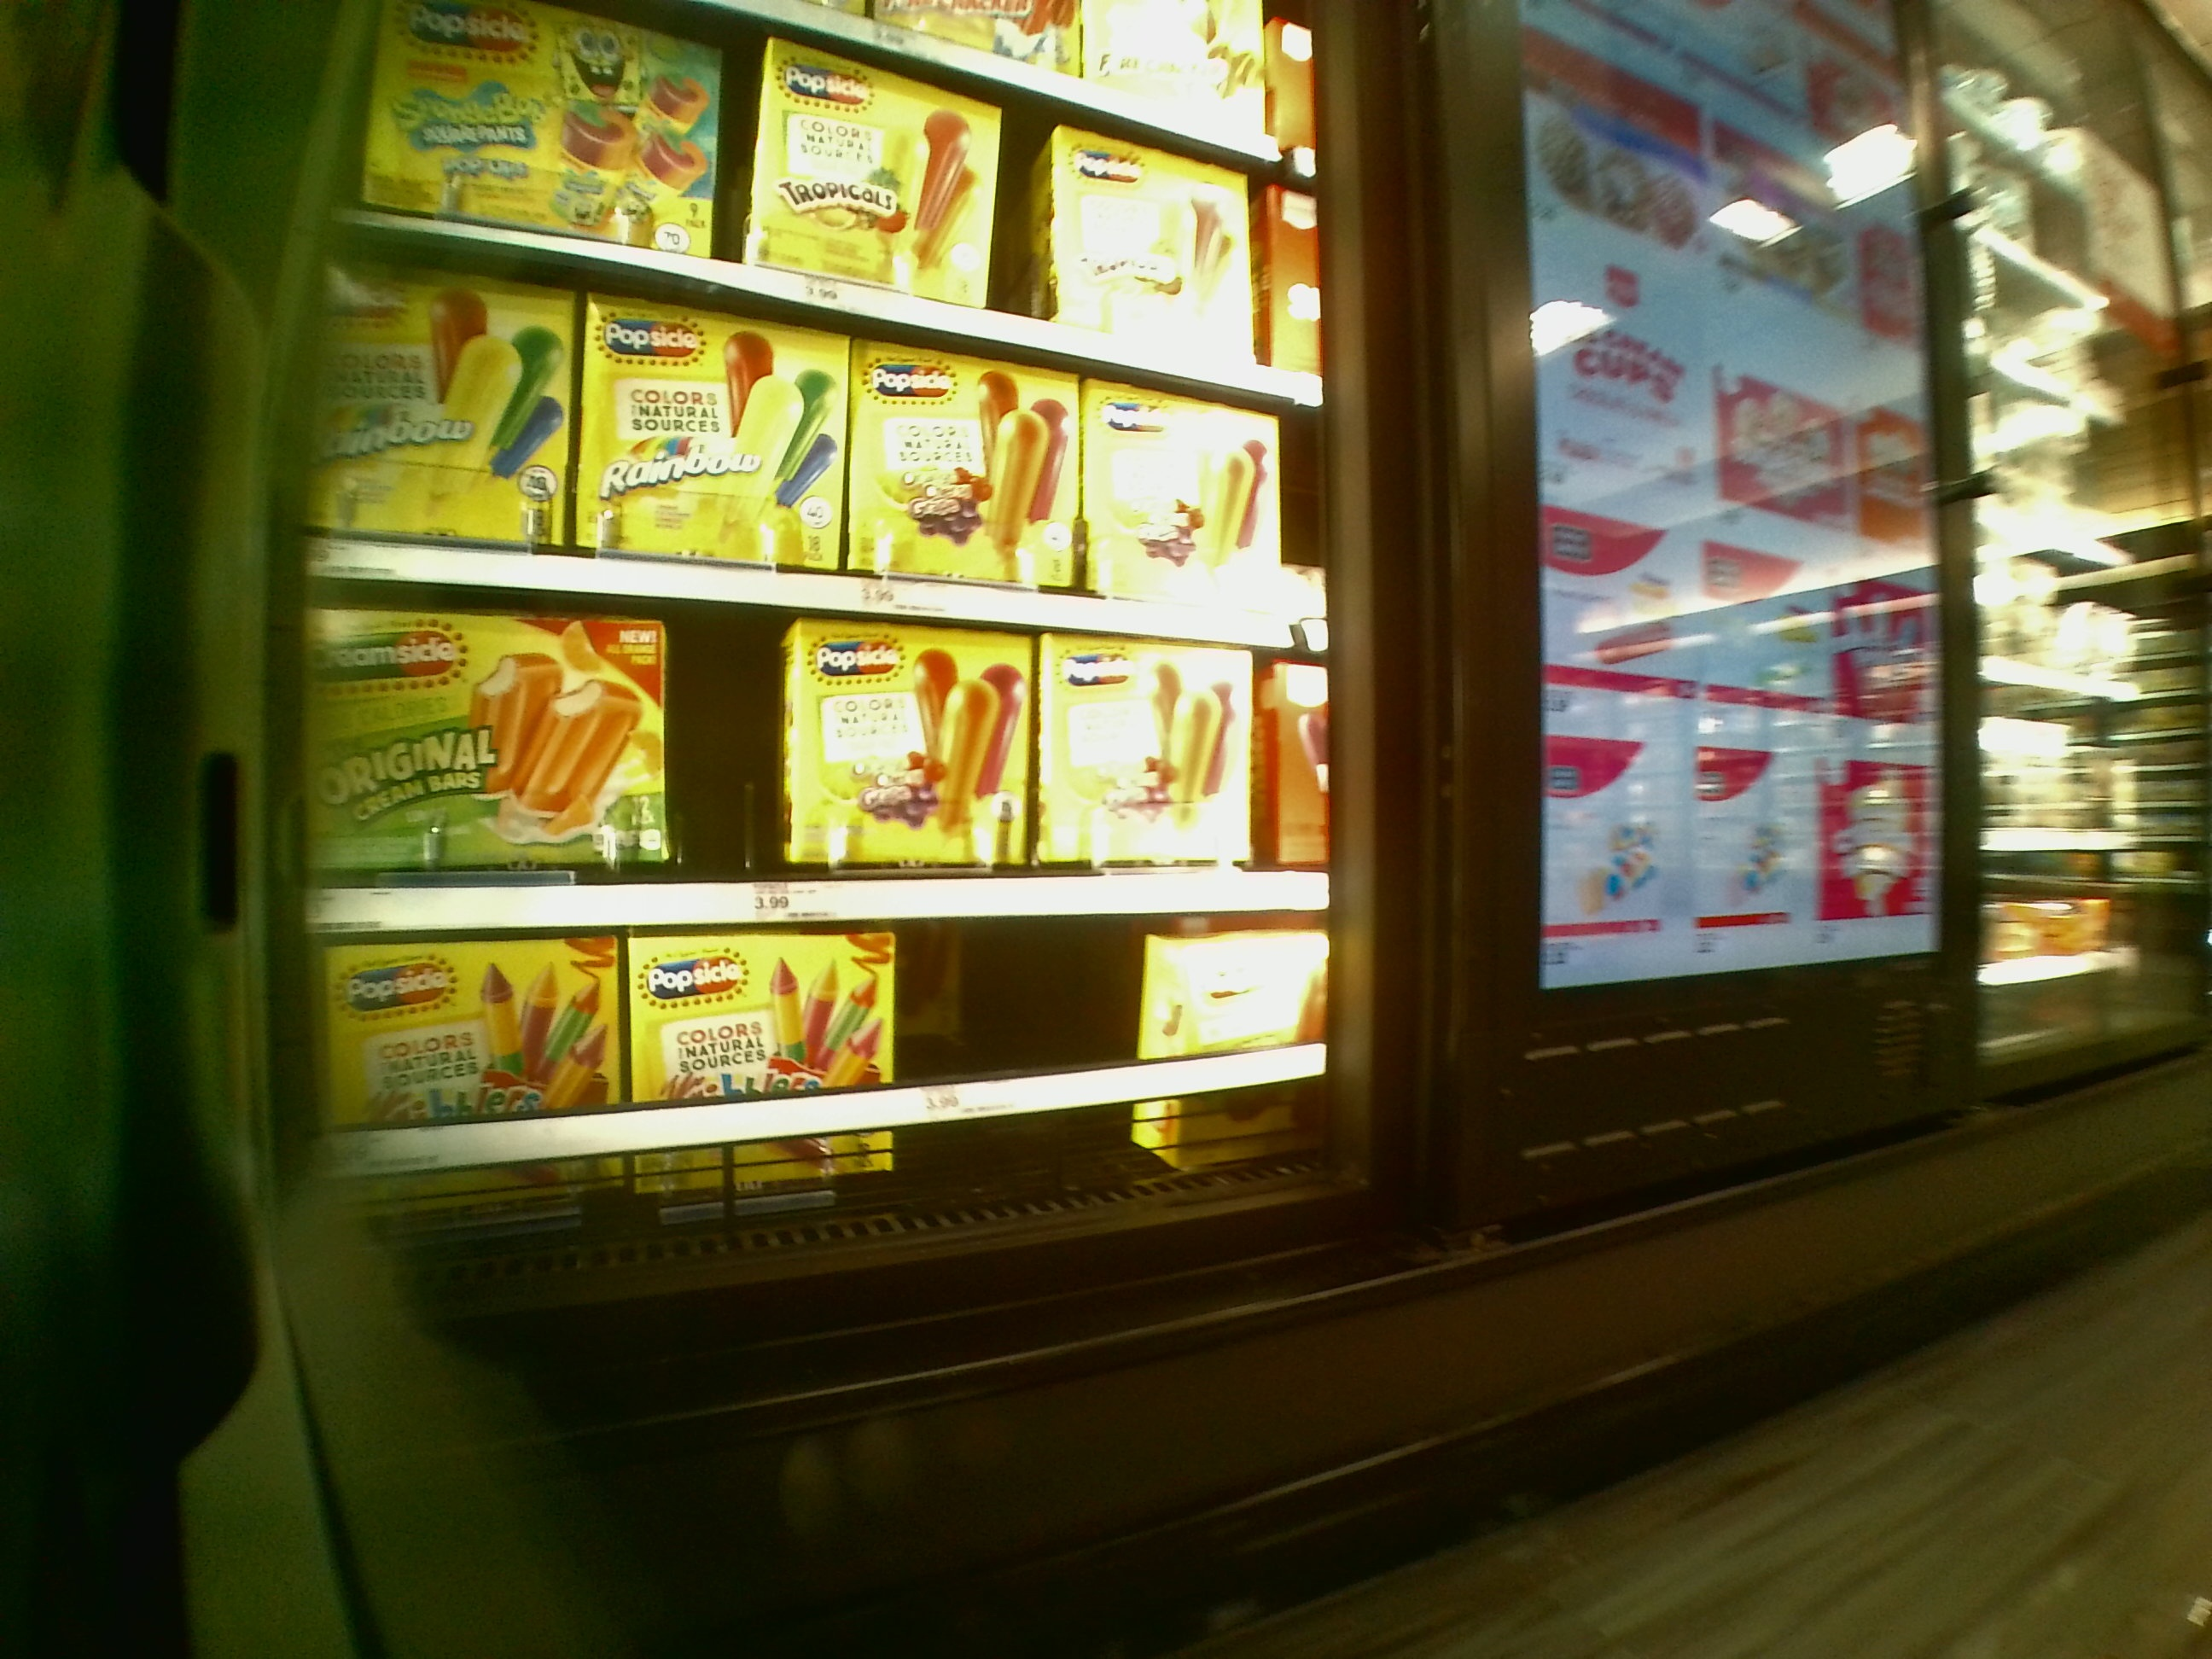shelf: (298, 293, 1303, 619), (305, 934, 1332, 1236), (305, 613, 1313, 920)
